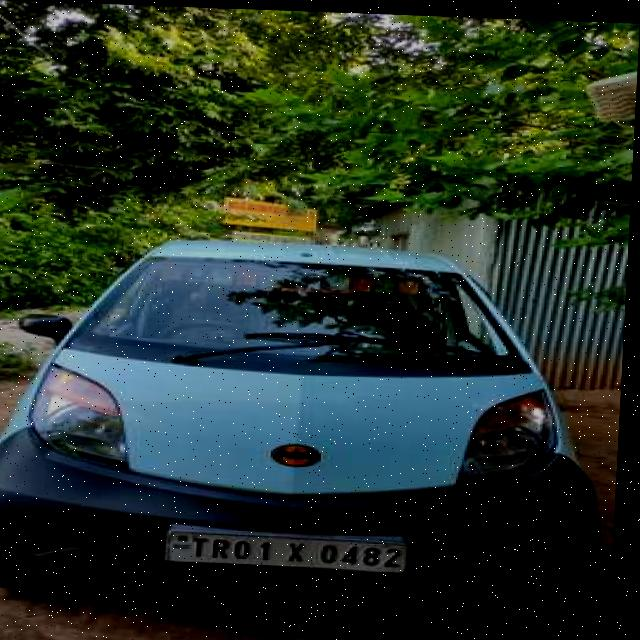plate: (169, 526, 415, 573)
